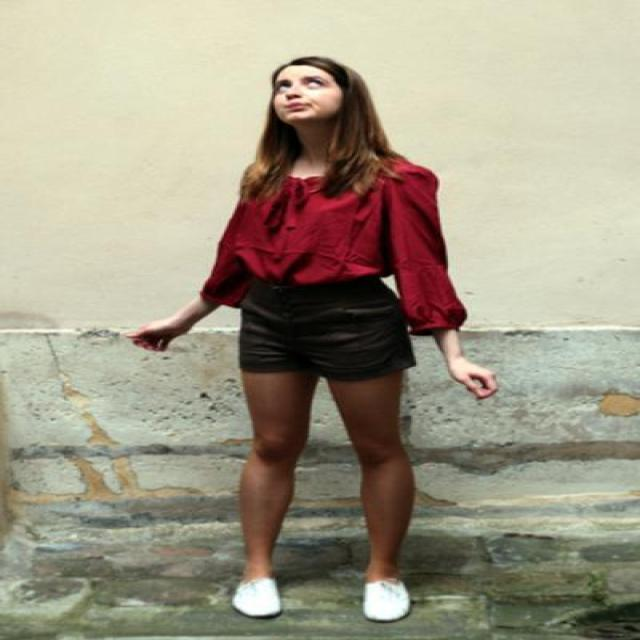shirt: (211, 141, 466, 344)
shoe: (234, 578, 408, 618)
shorts: (234, 275, 432, 382)
